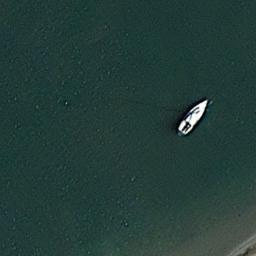boat: (174, 96, 208, 136)
